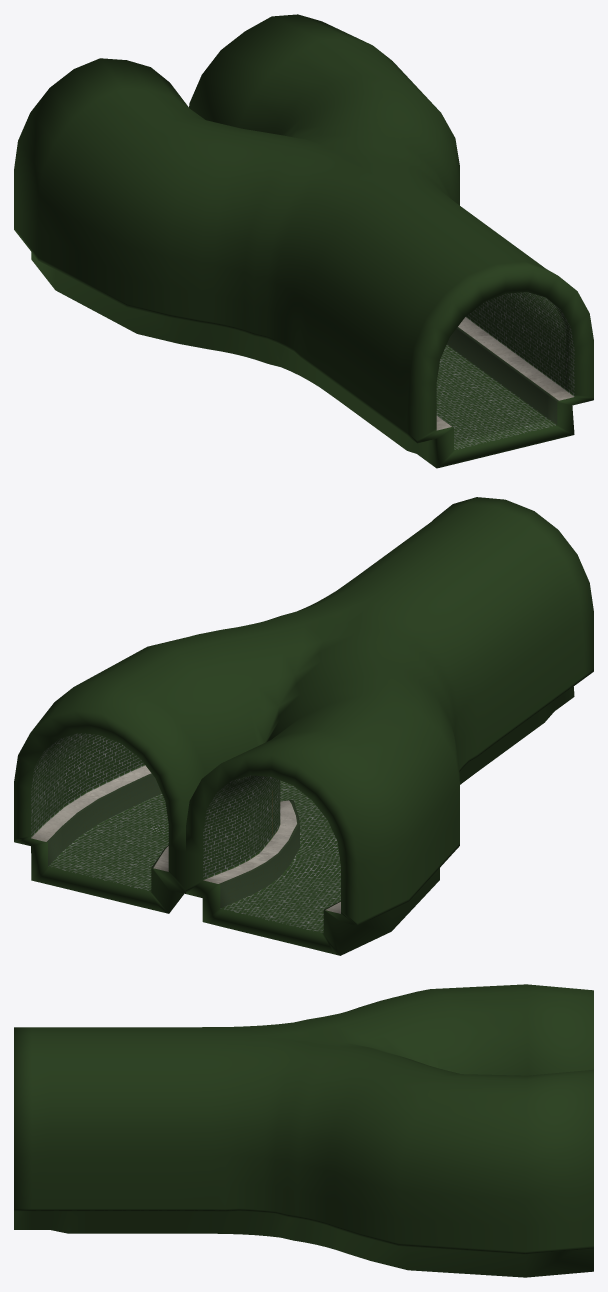
The model's file is SewerModule_ForkAdapter_1_001.fbx.
3 renders of one model, top to bottom at view 1: azimuth 30°, elevation 25°; view 2: azimuth 150°, elevation 25°; view 3: azimuth 270°, elevation 25°, orthographic. The views are drawn at different scales.
Visible parts, largest first — view 1: Module_Split_1_002.001; view 2: Module_Split_1_002.001; view 3: Module_Split_1_002.001.
Part boxes in pixels (box(x1,y1,x2,y2)): Module_Split_1_002.001: box(14, 14, 593, 468); Module_Split_1_002.001: box(14, 497, 593, 955); Module_Split_1_002.001: box(14, 984, 593, 1277).
Size of the model in its own units: 2153 by 1025 by 3216.
